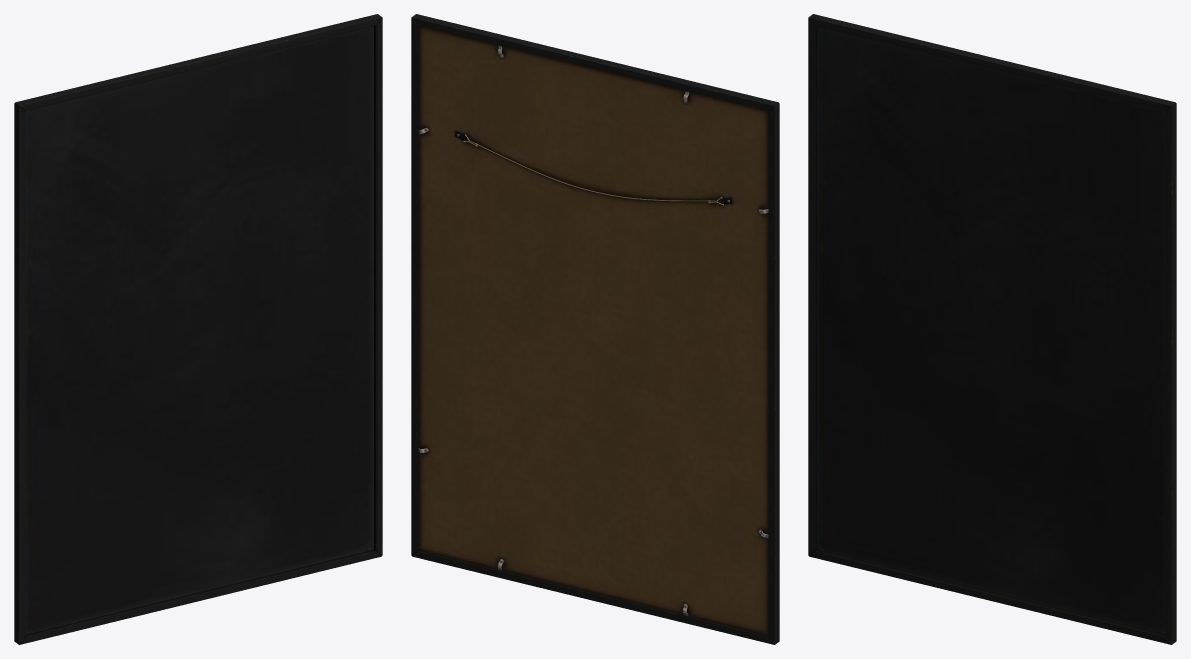
File: hanging_picture_frame_01.gltf
3 renders of one model, left to right at view 1: azimuth 30°, elevation 25°; view 2: azimuth 150°, elevation 25°; view 3: azimuth 330°, elevation 25°, orthographic.
Parts seen in each view (by area): view 1: hanging_picture_frame_01; view 2: hanging_picture_frame_01; view 3: hanging_picture_frame_01.
Part boxes in pixels (box(x1,y1,x2,y2)): hanging_picture_frame_01: box(14, 14, 382, 644); hanging_picture_frame_01: box(411, 14, 779, 644); hanging_picture_frame_01: box(808, 14, 1176, 644).
Bounding box in the file's own units: 0.594 × 0.841 × 0.0157.
Materials: 3 (3 with a texture image).
